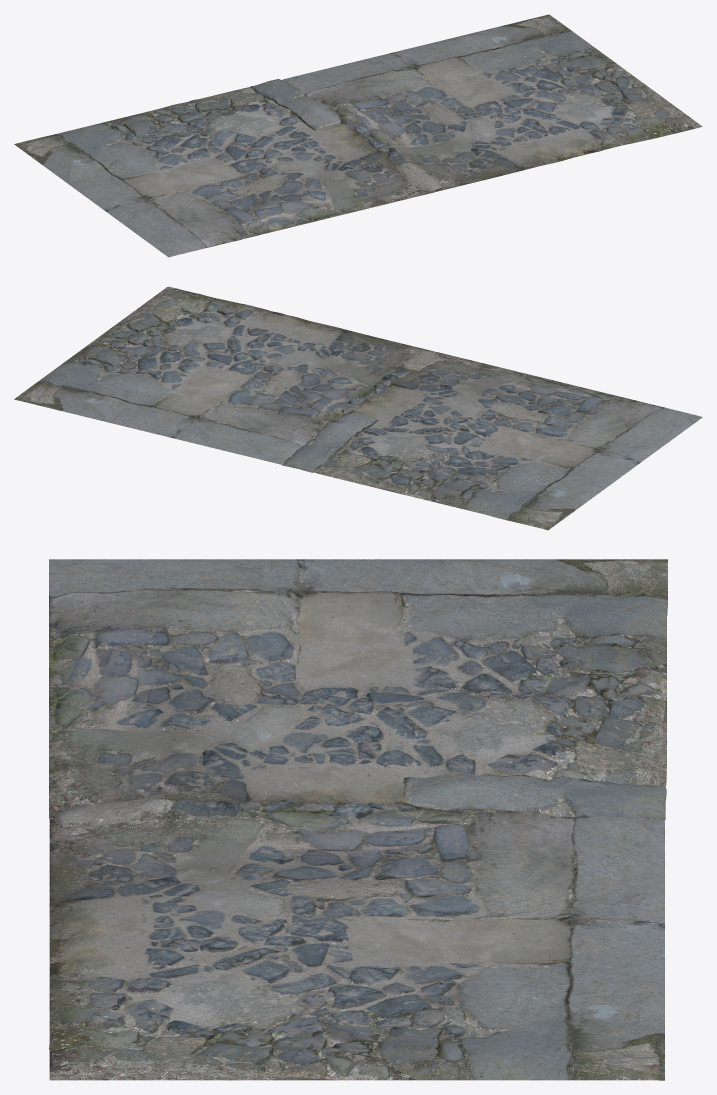
Rendered from sm_Stairs_01_08.fbx.
3 renders of one model, top to bottom at view 1: azimuth 30°, elevation 25°; view 2: azimuth 150°, elevation 25°; view 3: azimuth 270°, elevation 25°, orthographic. The views are drawn at different scales.
Visible parts, largest first — view 1: sm_Stairs_01_08_LOD0; view 2: sm_Stairs_01_08_LOD0; view 3: sm_Stairs_01_08_LOD0.
Boxes of the visible parts, bbox=[...] form: sm_Stairs_01_08_LOD0: bbox=[14, 14, 702, 257]; sm_Stairs_01_08_LOD0: bbox=[14, 286, 702, 530]; sm_Stairs_01_08_LOD0: bbox=[49, 559, 667, 1080].
Size of the model in its own units: 400 by 201 by 8.53.
